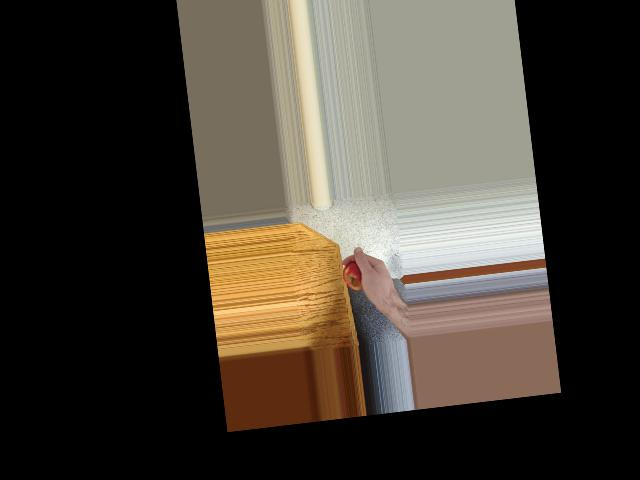apple: (341, 258, 372, 292)
